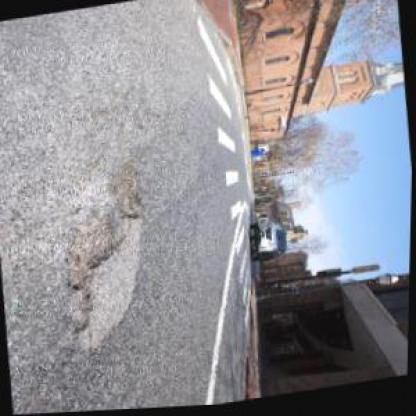pothole: (56, 215, 127, 297), (107, 161, 148, 226)
